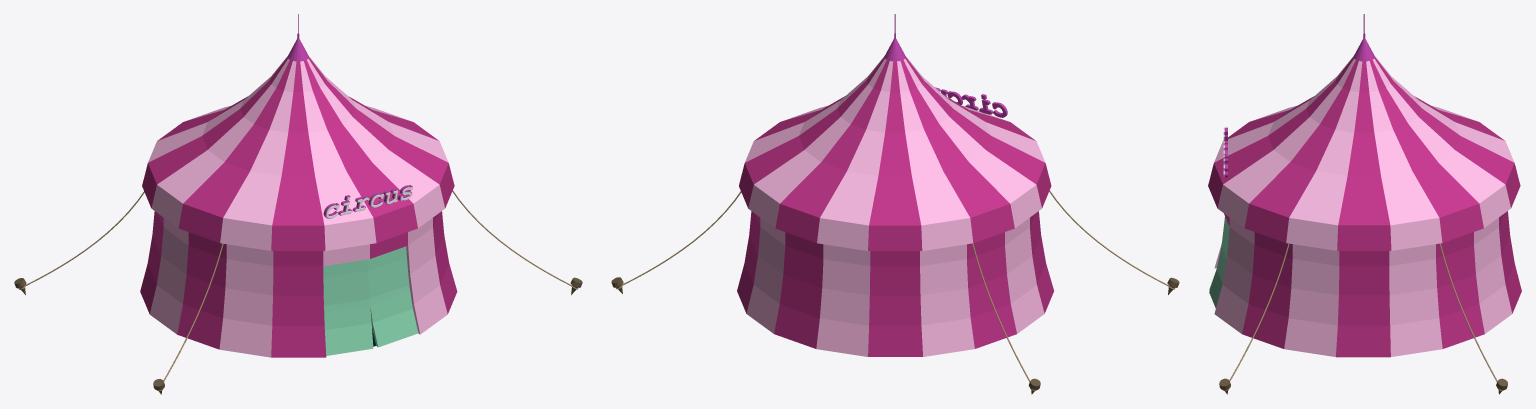
File: CircusTentUNITYDAY.fbx
3 renders of one model, left to right at view 1: azimuth 30°, elevation 25°; view 2: azimuth 150°, elevation 25°; view 3: azimuth 270°, elevation 25°, orthographic.
Parts seen in each view (by area): view 1: Cylinder, Cylinder.003, Text.001, Text; view 2: Cylinder, Text.001; view 3: Cylinder, Cylinder.003, Cone, BezierCircle.001, Cylinder.002.
Boxes of the visible parts, x1,y1,x2,y2 form: Cylinder: (140, 56, 457, 357); Cylinder.003: (323, 246, 418, 355); Text.001: (323, 185, 412, 218); Text: (326, 187, 412, 218); Cylinder: (737, 56, 1053, 356); Text.001: (935, 87, 1007, 117); Cylinder: (1208, 56, 1521, 357); Cylinder.003: (1209, 217, 1229, 308); Cone: (1219, 243, 1289, 394); BezierCircle.001: (1439, 243, 1507, 394); Cylinder.002: (1353, 14, 1374, 61).
Bounding box in the file's own units: 345 × 216 × 219.
